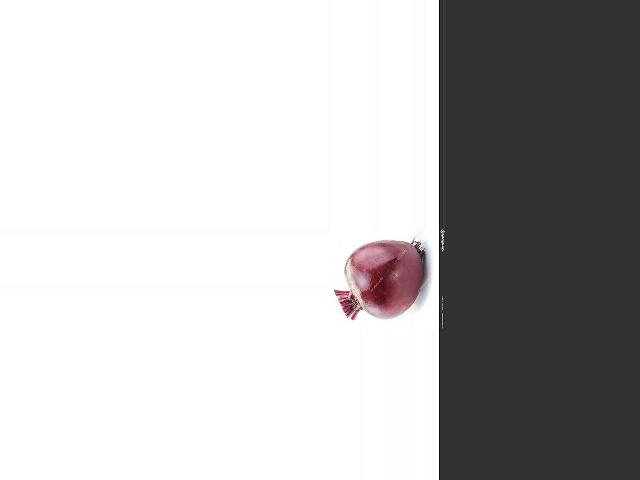beet: (334, 240, 423, 320)
